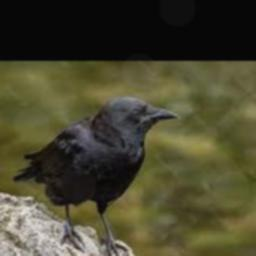Crow: (15, 97, 180, 256)
